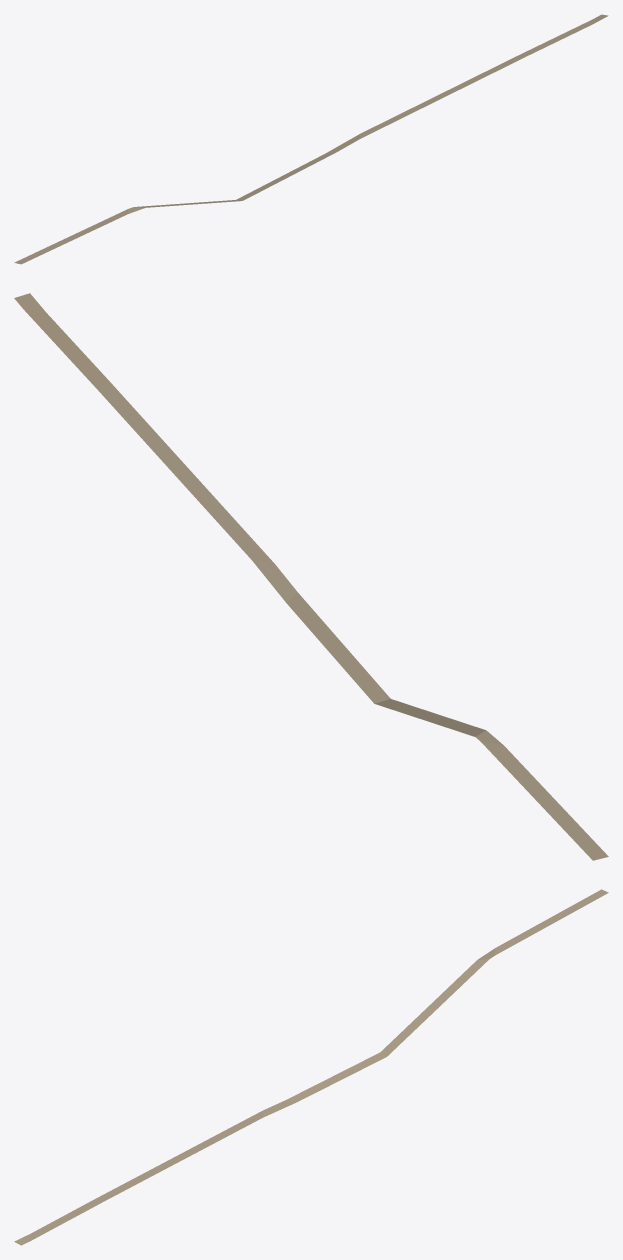
File: farm_-6_-7_track.glb
The picture shows the model from 3 angles, top to bottom: view 1: azimuth 90°, elevation 25°; view 2: azimuth 150°, elevation 25°; view 3: azimuth 270°, elevation 25°; orthographic projection. The views are drawn at different scales.
Visible parts, largest first — view 1: geometry_0; view 2: geometry_0; view 3: geometry_0.
Boxes of the visible parts, x1=… form: geometry_0: x1=14, y1=14, x2=608, y2=264; geometry_0: x1=14, y1=293, x2=608, y2=860; geometry_0: x1=14, y1=889, x2=608, y2=1245.
Size of the model in its own units: 247 by 20.31 by 205.
